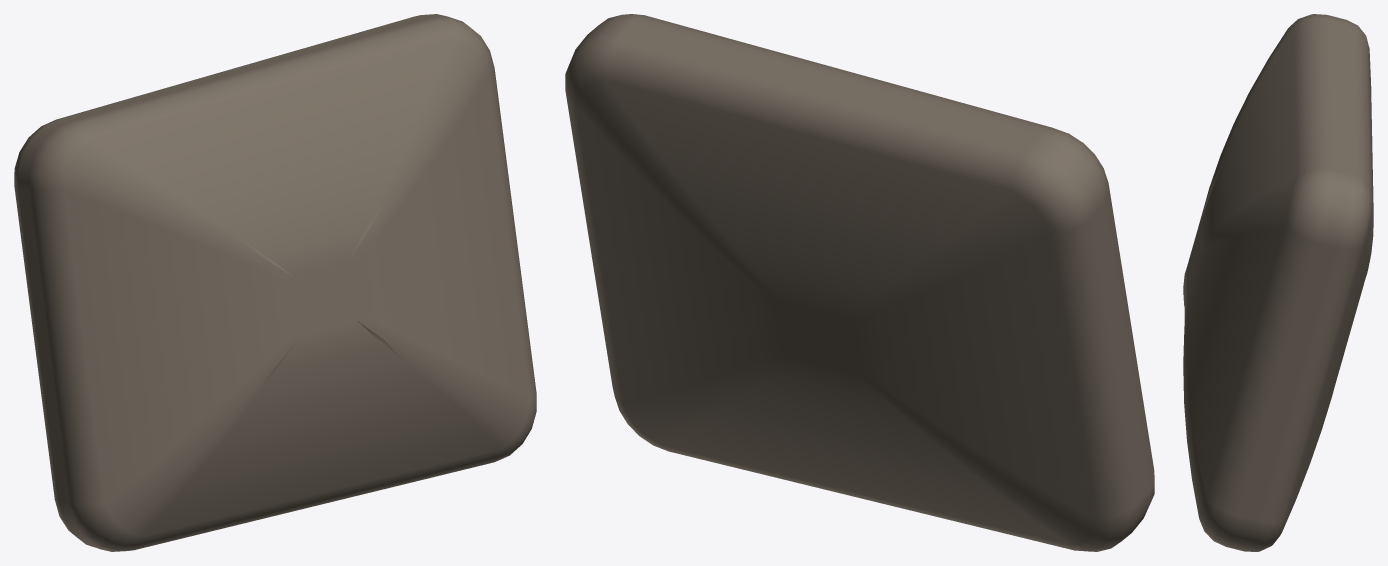
The model's file is main-throw-pillow-db62a85ce938.glb.
3 views of the same model, side by side, from view 1: azimuth 30°, elevation 25°; view 2: azimuth 150°, elevation 25°; view 3: azimuth 270°, elevation 25° (orthographic). The views are drawn at different scales.
Visible parts, largest first — view 1: cover-cloth; view 2: cover-cloth; view 3: cover-cloth.
Boxes of the visible parts, box(x1,y1,x2,y2) form: cover-cloth: box(14, 14, 536, 551); cover-cloth: box(565, 14, 1154, 551); cover-cloth: box(1183, 14, 1373, 551).
Size of the model in its own units: 0.3285 by 0.2785 by 0.1267.
